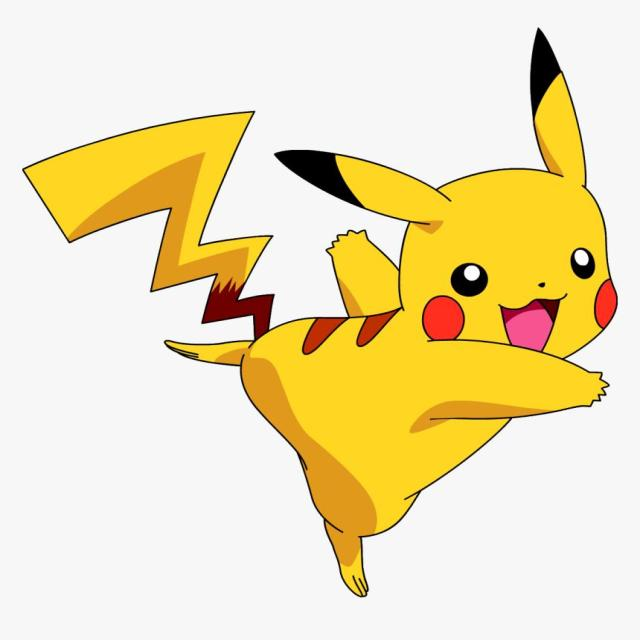pikachu: (21, 26, 617, 600)
